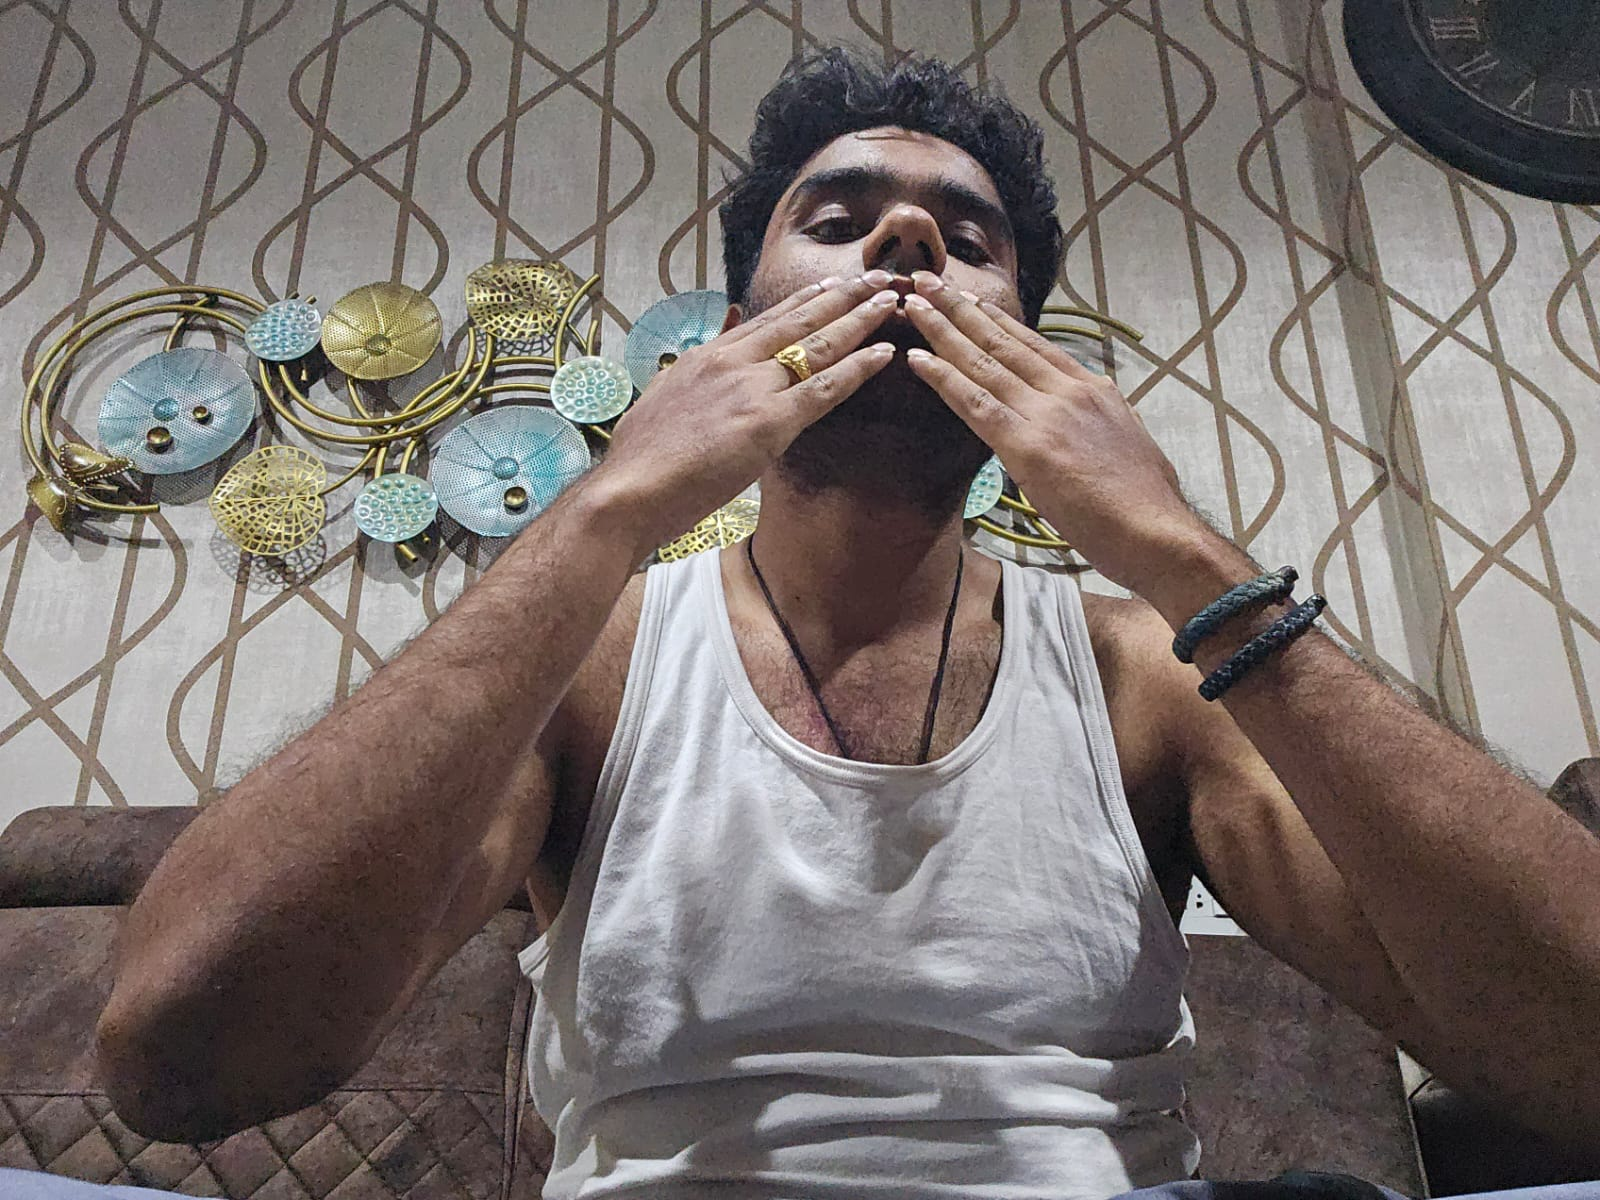thank you: (587, 263, 1192, 560)
